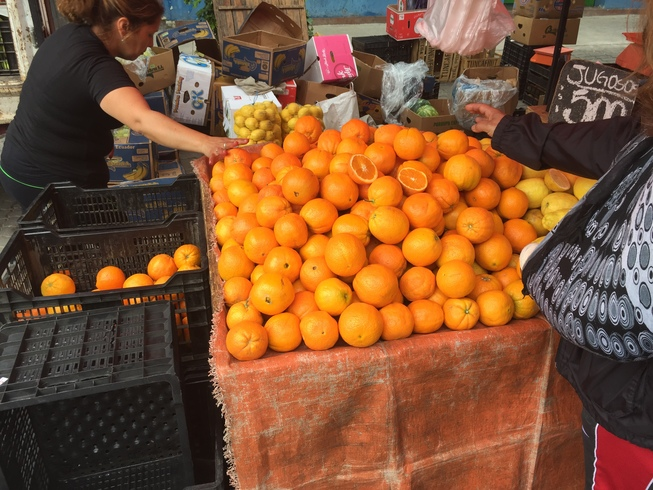precio: (545, 51, 639, 134)
